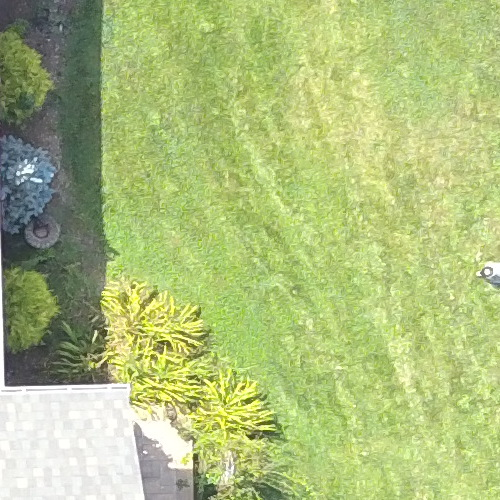bird bath: (17, 206, 68, 251)
container: (20, 207, 72, 251)
